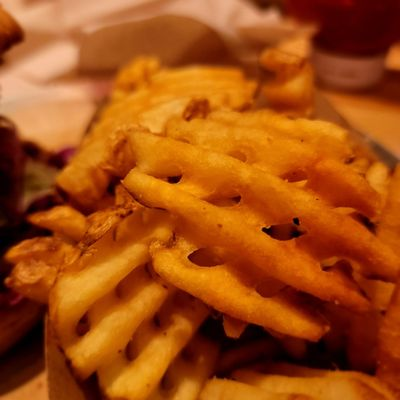salad: (96, 103, 400, 386)
